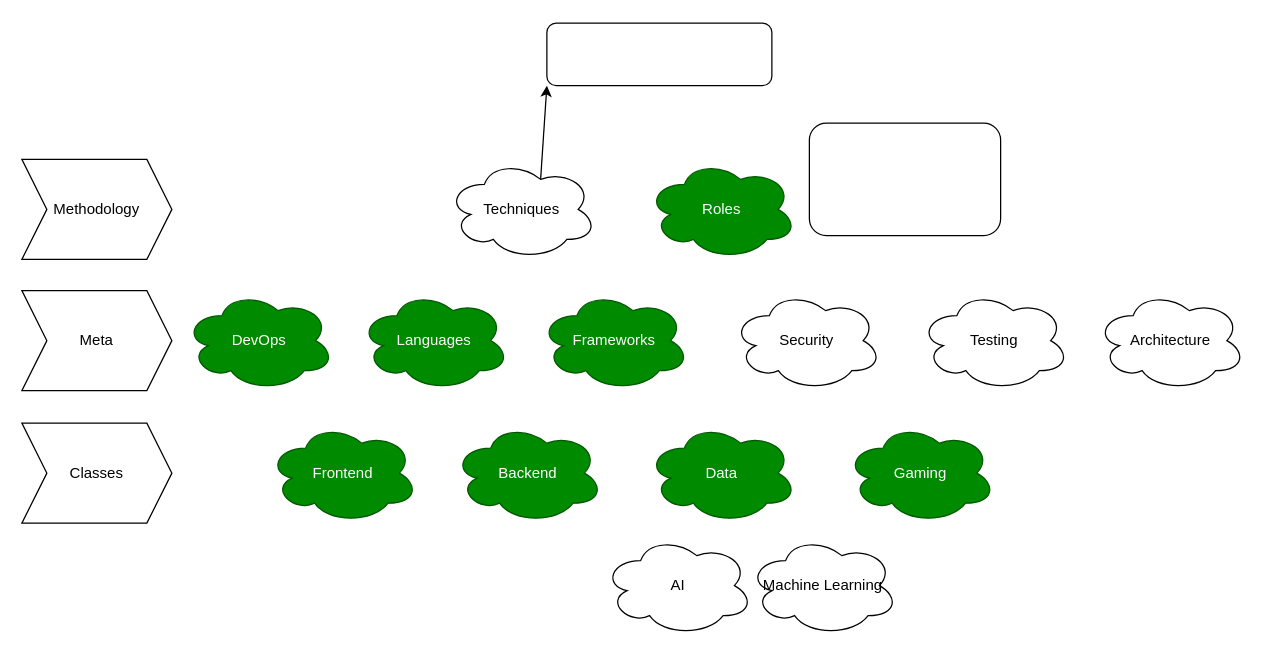
The diagram is 1268 pixels wide and 658 high, and some of its shapes have lost their labels. Here are the shapes that lost their labels. From the top down, the centre of each, then its label:
At pixel 659 54: "Agile / W aterfall Kanban / Scrum".
At pixel 904 179: "Architect Developer Data engineer Tester".
